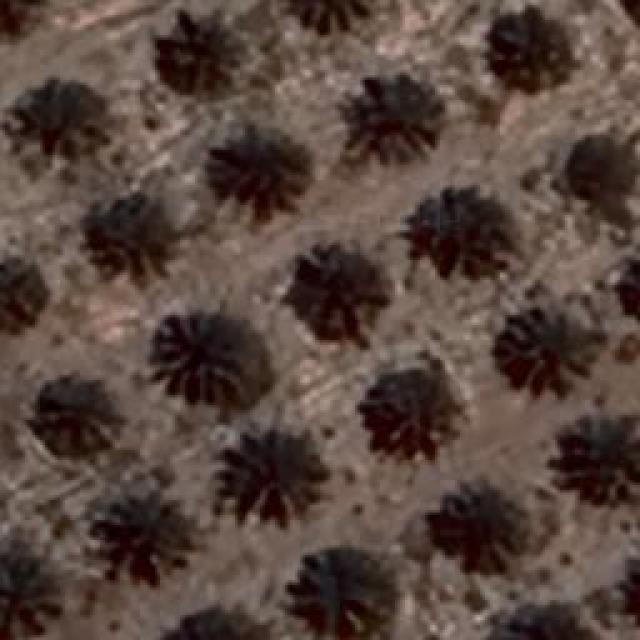PalmTree: (210, 418, 325, 532), (150, 308, 262, 402), (495, 305, 600, 395), (90, 198, 182, 288), (98, 494, 190, 578), (216, 136, 312, 216), (26, 372, 114, 458), (354, 84, 448, 162), (160, 9, 248, 92), (304, 550, 384, 640), (436, 482, 516, 562), (294, 257, 376, 335), (13, 86, 106, 154), (490, 5, 568, 85), (425, 198, 510, 268), (563, 428, 640, 498), (484, 596, 602, 640), (362, 374, 438, 438), (0, 552, 62, 629), (574, 137, 638, 210), (157, 604, 274, 640), (0, 260, 42, 337), (290, 0, 372, 30), (615, 239, 640, 332), (0, 0, 49, 44), (613, 0, 640, 33)
